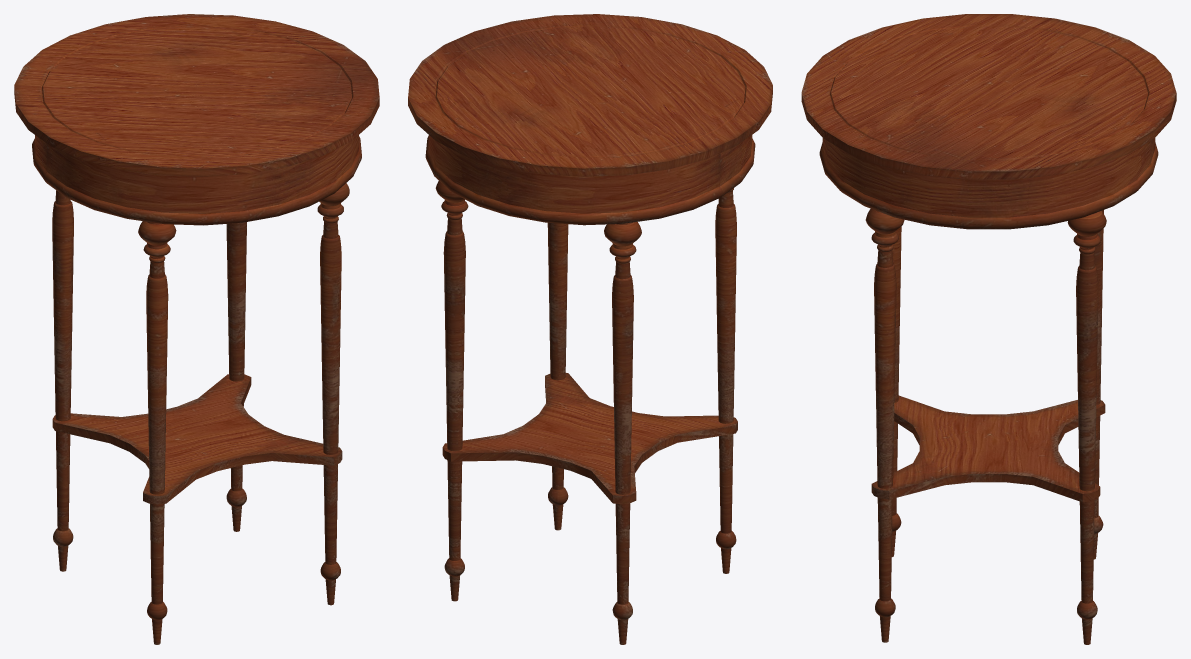
File: table.glb
The picture shows the model from 3 angles, left to right: view 1: azimuth 30°, elevation 25°; view 2: azimuth 150°, elevation 25°; view 3: azimuth 270°, elevation 25°; orthographic projection. The views are drawn at different scales.
Parts seen in each view (by area): view 1: TableD'apoint; view 2: TableD'apoint; view 3: TableD'apoint.
Part boxes in pixels (box(x1,y1,x2,y2)): TableD'apoint: box(14, 14, 379, 644); TableD'apoint: box(408, 14, 772, 644); TableD'apoint: box(801, 14, 1176, 644).
Bounding box in the file's own units: 57.18 × 85.95 × 57.6.
Materials: 1 (1 with a texture image).
